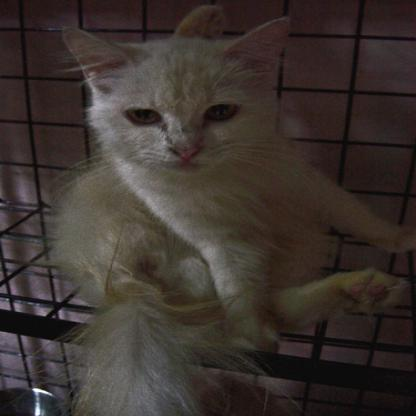cat: (60, 6, 415, 415)
